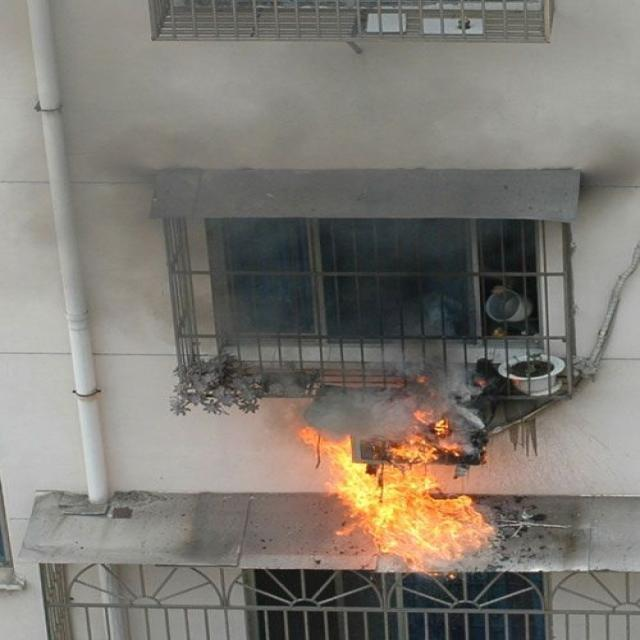Fire: (294, 409, 498, 583)
Smoke: (306, 292, 487, 455)
